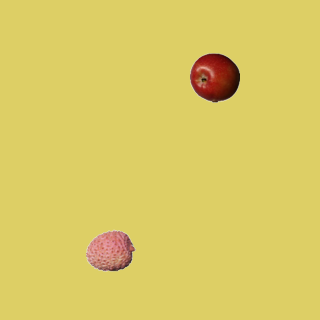Apple Braeburn: (189, 52, 239, 102)
Lychee: (85, 225, 135, 275)
